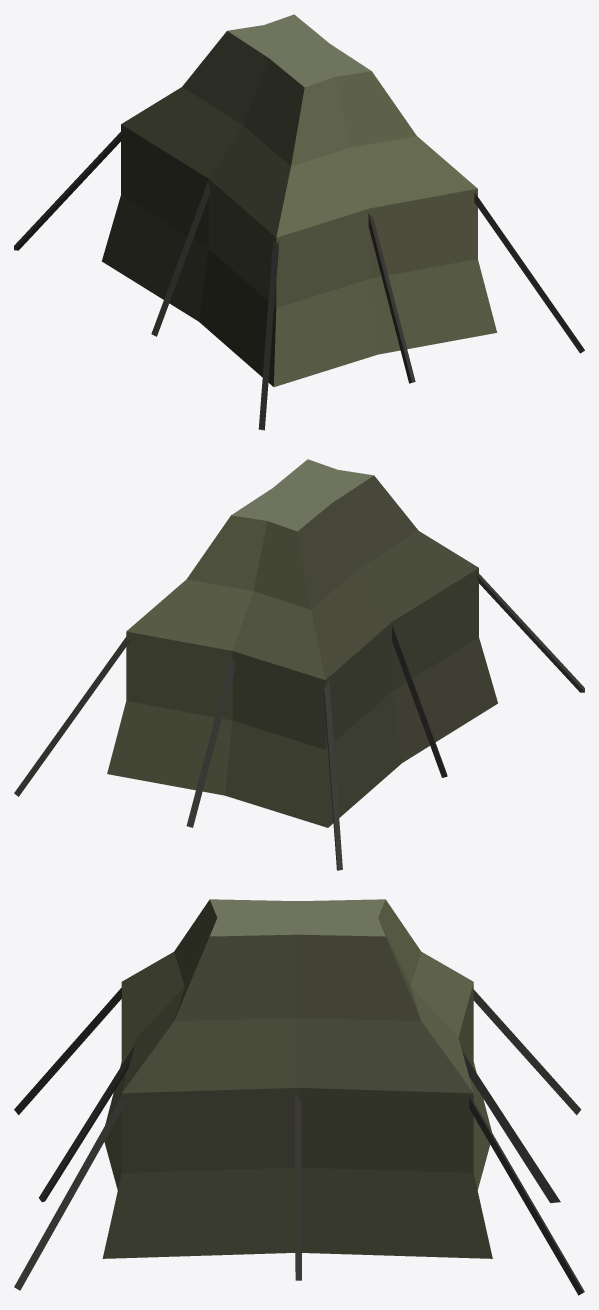
File: TB_D_Prop_Tent_Big_C.FBX
The picture shows the model from 3 angles, top to bottom: view 1: azimuth 30°, elevation 25°; view 2: azimuth 150°, elevation 25°; view 3: azimuth 270°, elevation 25°; orthographic projection. The views are drawn at different scales.
Parts seen in each view (by area): view 1: TB_D_Prop_Tent_Big_C; view 2: TB_D_Prop_Tent_Big_C; view 3: TB_D_Prop_Tent_Big_C.
Boxes of the visible parts, box(x1,y1,x2,y2) form: TB_D_Prop_Tent_Big_C: box(14, 14, 584, 430); TB_D_Prop_Tent_Big_C: box(14, 459, 584, 870); TB_D_Prop_Tent_Big_C: box(14, 899, 584, 1295).
Bounding box in the file's own units: 4.9 × 3.6 × 6.49.
